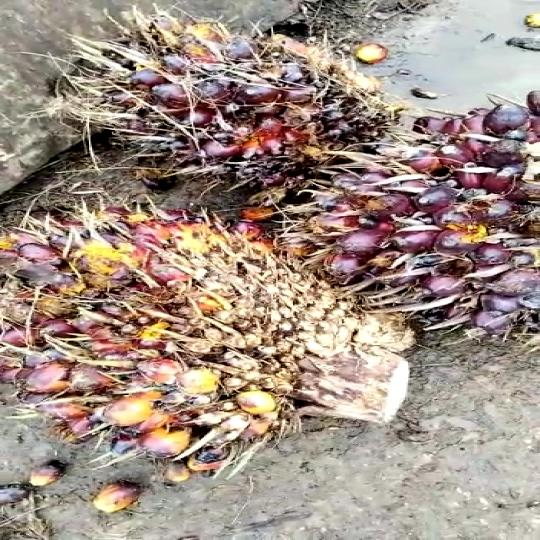masak: (0, 197, 432, 493), (44, 11, 394, 207), (292, 94, 540, 340)
